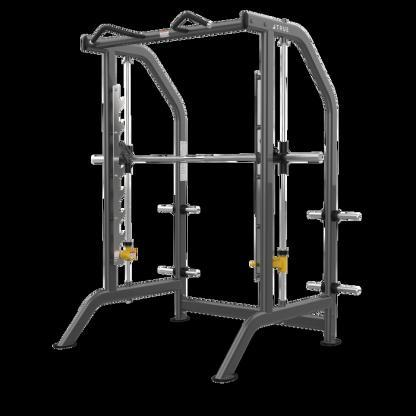smith machine: (53, 10, 360, 386)
